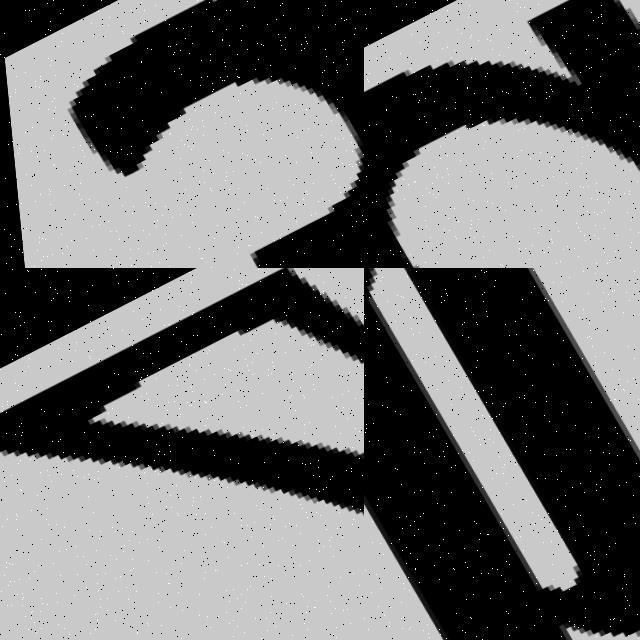2: (0, 268, 364, 640)
3: (31, 0, 364, 268)
H: (364, 268, 640, 640)
U: (364, 0, 640, 268)
